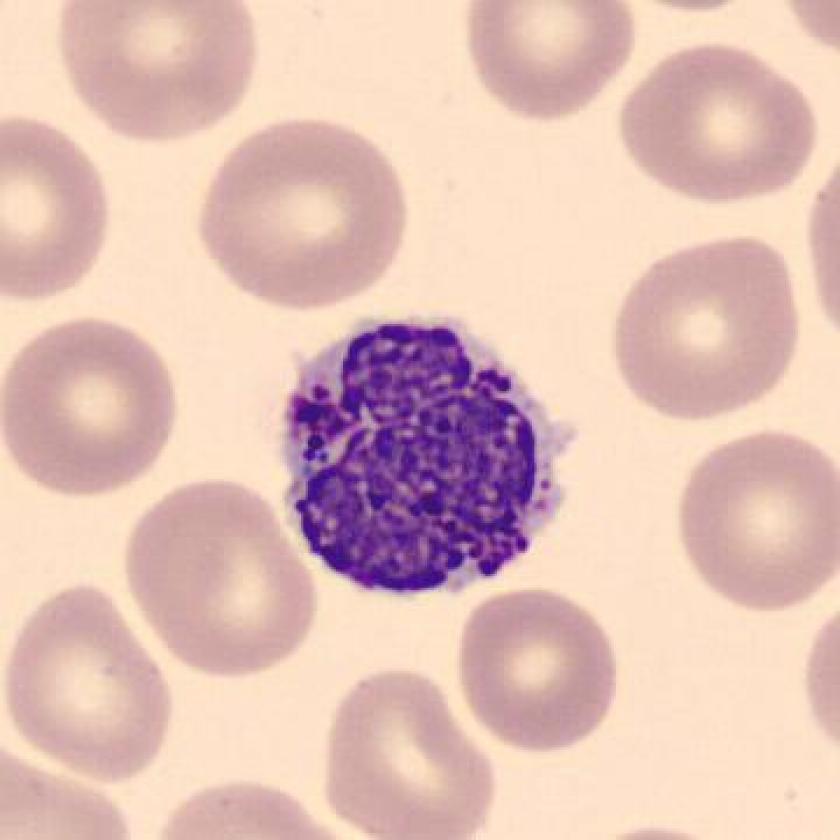basophil: (281, 304, 561, 610)
